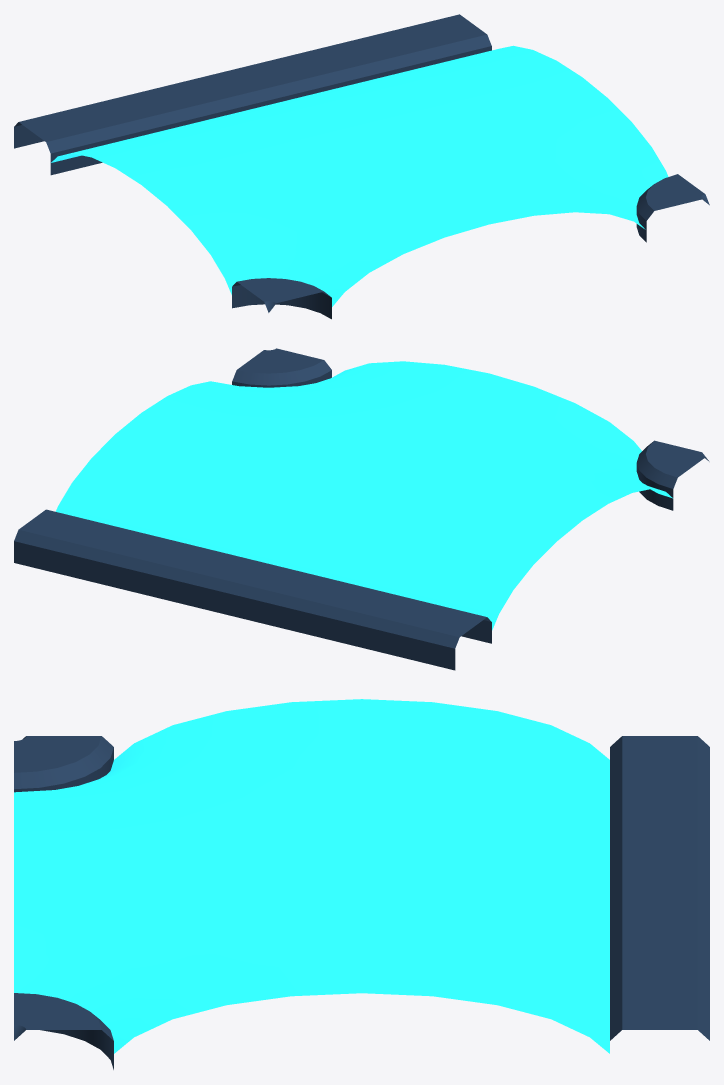
The model's file is Light_Trim_01_RoundShortCrossT.glb.
3 renders of one model, top to bottom at view 1: azimuth 30°, elevation 25°; view 2: azimuth 150°, elevation 25°; view 3: azimuth 270°, elevation 25°, orthographic. The views are drawn at different scales.
Parts seen in each view (by area): view 1: Light_Trim_01_RoundShortCrossT.001; view 2: Light_Trim_01_RoundShortCrossT.001; view 3: Light_Trim_01_RoundShortCrossT.001.
Boxes of the visible parts, box(x1,y1,x2,y2) form: Light_Trim_01_RoundShortCrossT.001: box(14, 14, 709, 319); Light_Trim_01_RoundShortCrossT.001: box(14, 348, 709, 670); Light_Trim_01_RoundShortCrossT.001: box(14, 699, 709, 1069).
Bounding box in the file's own units: 0.1 × 0.0123 × 0.1.
